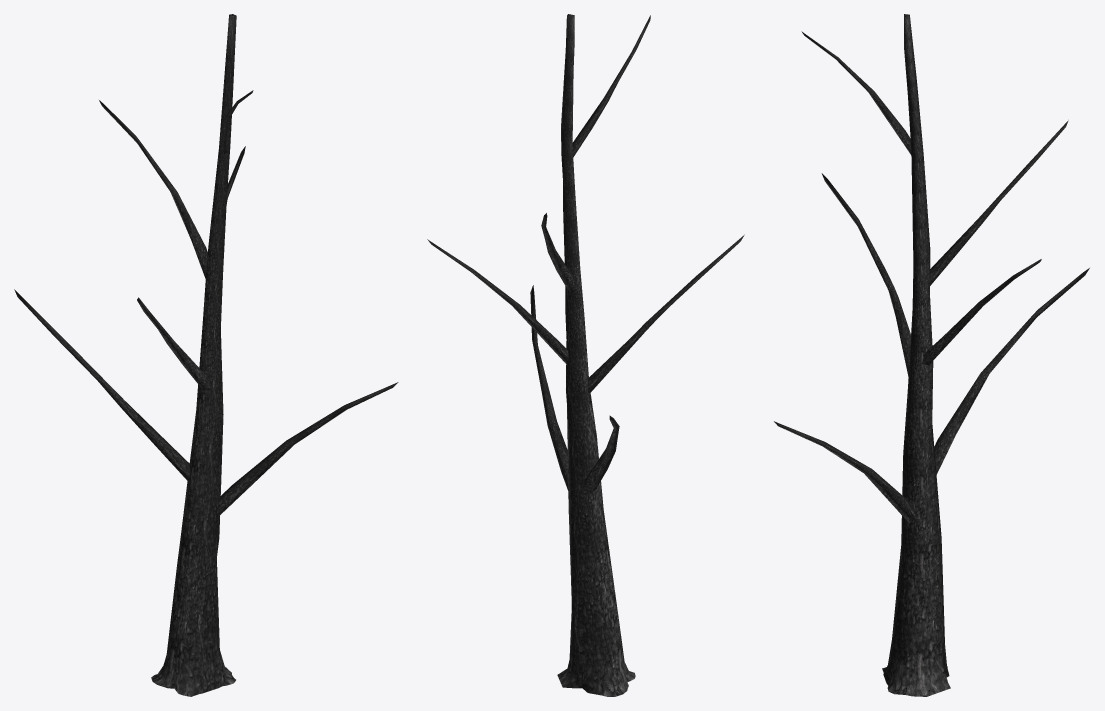
The model's file is tree_8.obj.
3 views of the same model, side by side, from view 1: azimuth 30°, elevation 25°; view 2: azimuth 150°, elevation 25°; view 3: azimuth 270°, elevation 25° (orthographic). The views are drawn at different scales.
Visible parts, largest first — view 1: tree_8; view 2: tree_8; view 3: tree_8.
Part boxes in pixels (bbox=[...]): tree_8: bbox=[14, 14, 398, 696]; tree_8: bbox=[427, 14, 744, 696]; tree_8: bbox=[774, 14, 1089, 696].
Bounding box in the file's own units: 2.97 × 7.91 × 3.34.
